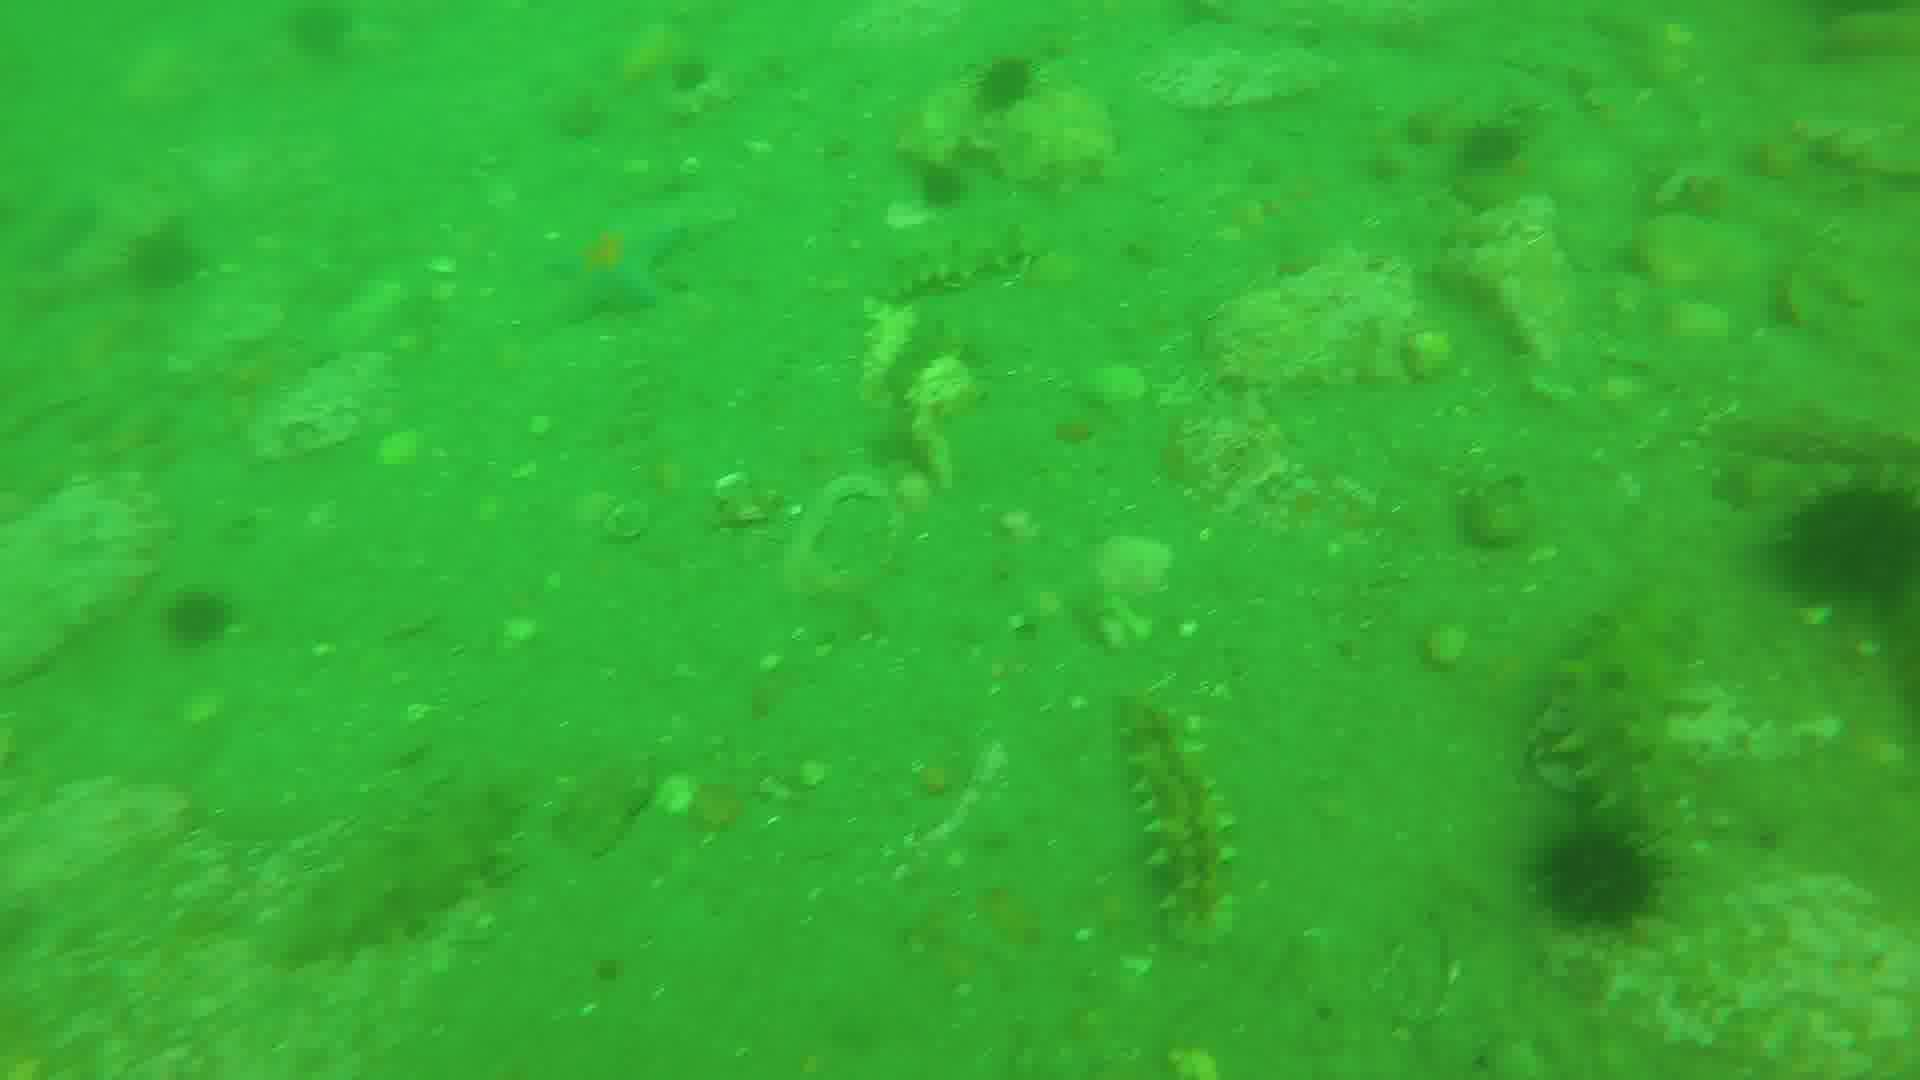echinus: (1788, 484, 1920, 609), (1542, 829, 1664, 924), (156, 585, 229, 647)
holothurian: (1549, 578, 1708, 869), (287, 789, 526, 963), (1112, 694, 1241, 944), (865, 214, 1050, 309)
starfish: (549, 223, 676, 328)
